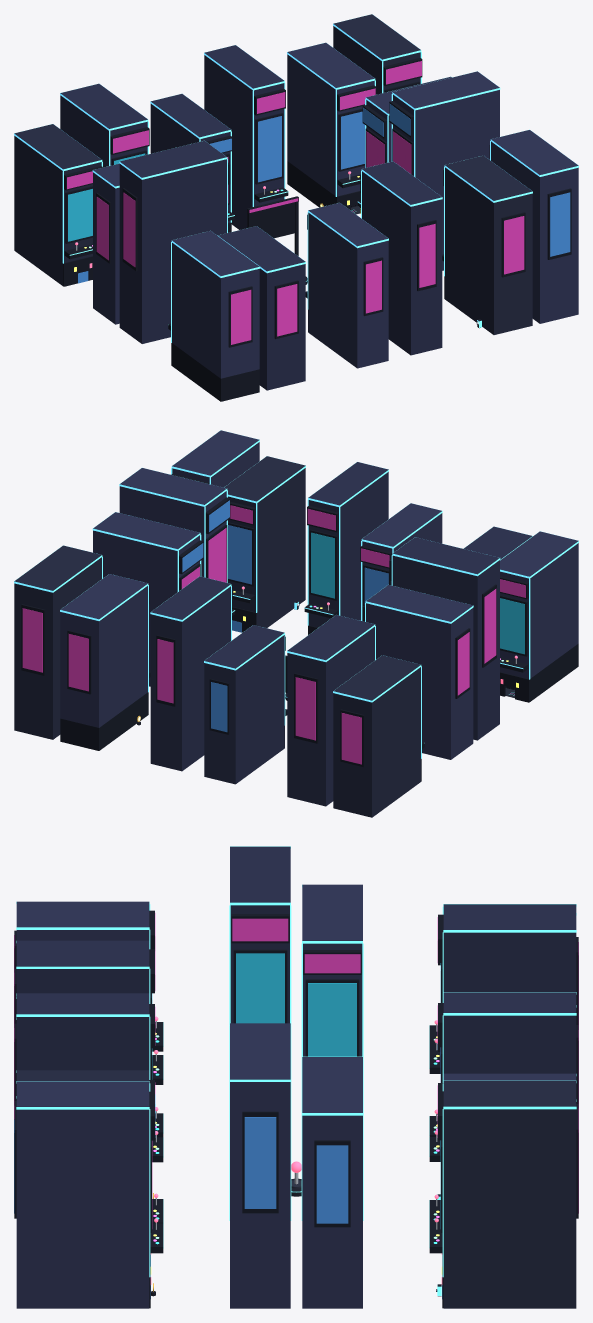
3 views of the same model, one above another, from view 1: azimuth 30°, elevation 25°; view 2: azimuth 150°, elevation 25°; view 3: azimuth 270°, elevation 25° (orthographic). The views are drawn at different scales.
Parts seen in each view (by area): view 1: district_city_arcade.lod0; view 2: district_city_arcade.lod0; view 3: district_city_arcade.lod0.
Part boxes in pixels (bbox=[...]): district_city_arcade.lod0: bbox=[14, 14, 578, 401]; district_city_arcade.lod0: bbox=[14, 430, 578, 817]; district_city_arcade.lod0: bbox=[14, 846, 578, 1308].
Bounding box in the file's own units: 97.9 × 43.81 × 97.9.
